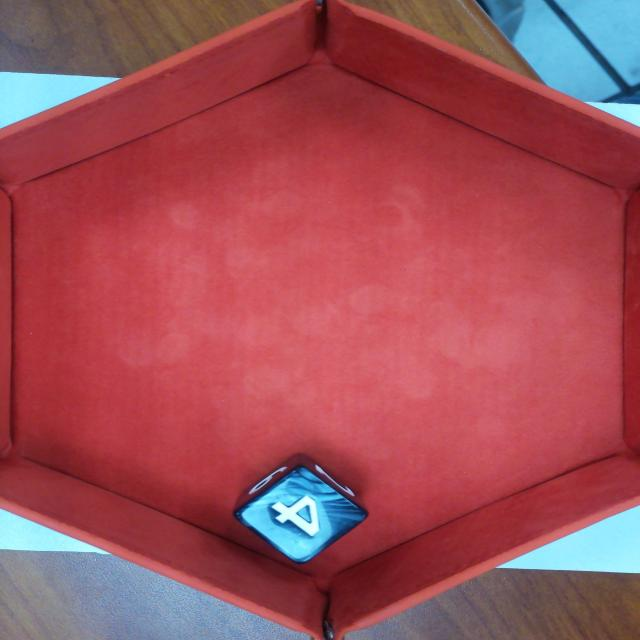dice: (230, 463, 370, 567)
